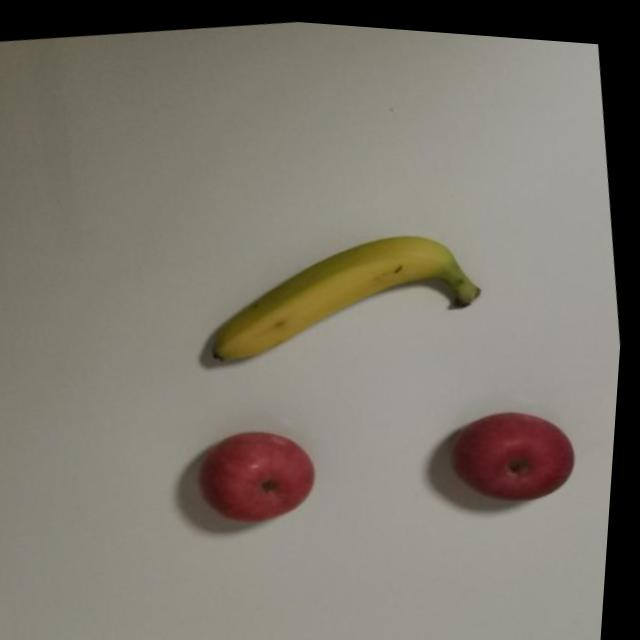Apple: (178, 206, 497, 377), (181, 411, 345, 534), (446, 389, 598, 510)
